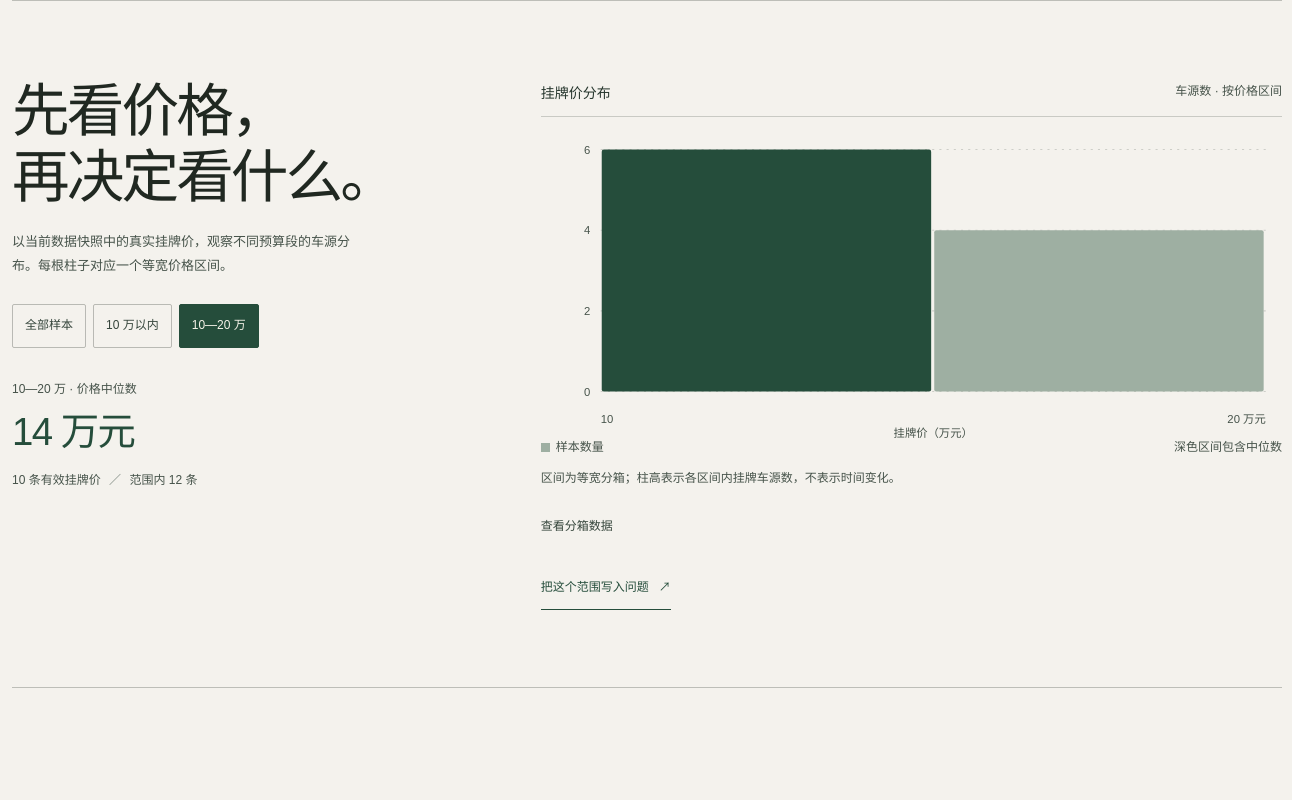
Test: HomeMarketLens › renders actual histogram bins, median, and known count meanings
Click the button "全部样本" at (49,326), box [12,304,86,348]
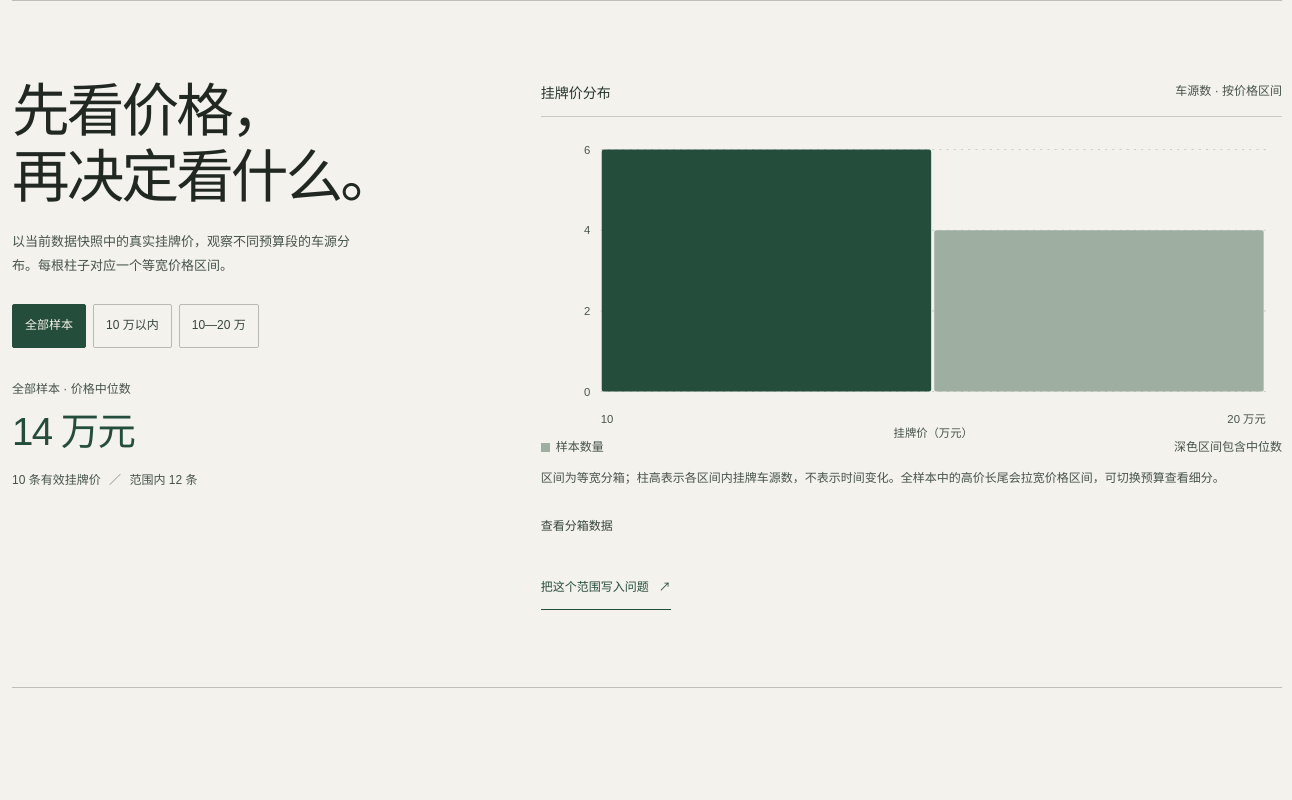
Expected: the text "高价长尾会拉宽价格区间" is shown, [901,471,1225,485]
